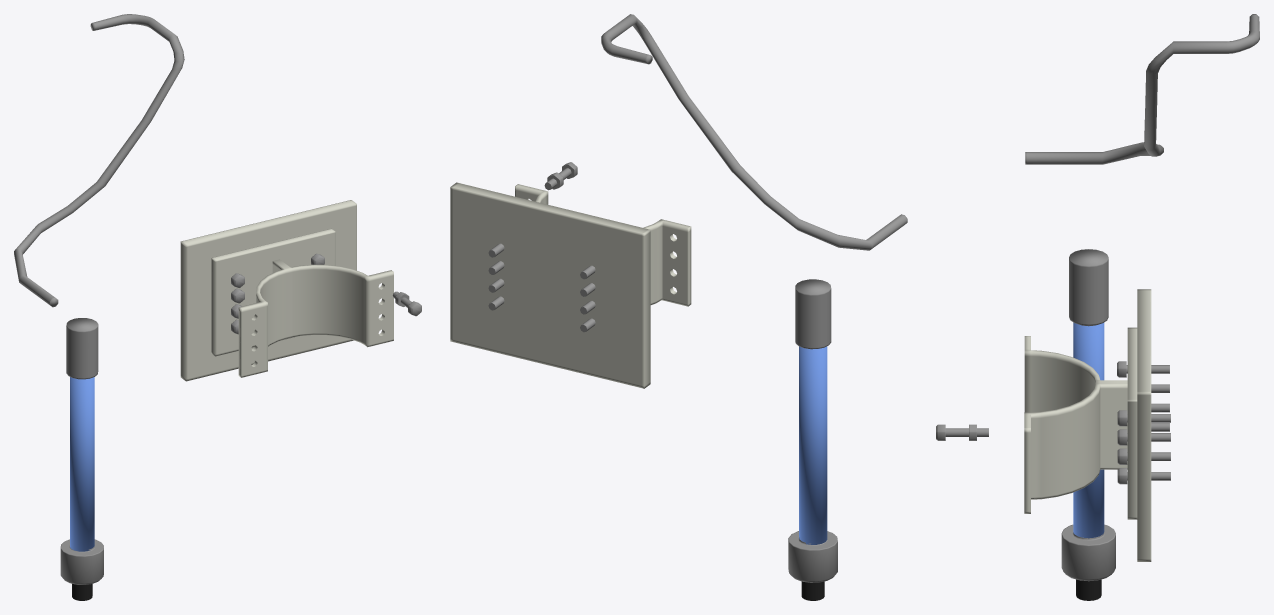
Rendered from newAssets.fbx.
3 views of the same model, side by side, from view 1: azimuth 30°, elevation 25°; view 2: azimuth 150°, elevation 25°; view 3: azimuth 270°, elevation 25° (orthographic). The views are drawn at different scales.
Visible parts, largest first — view 1: plunger.008, Cube.159, Cube.160, Circle.092, vale_base.003, Circle.182, Circle.181; view 2: Cube.159, Circle.092, vale_base.003, plunger.008, Circle.182, Circle.181; view 3: plunger.008, vale_base.003, Cube.159, Circle.092, Circle.182, Circle.181, Cube.160, bolt_s.024.
Boxes of the visible parts, x1=… form: plunger.008: x1=238, y1=259, x2=393, y2=377; Cube.159: x1=180, y1=200, x2=356, y2=381; Cube.160: x1=211, y1=228, x2=335, y2=356; Circle.092: x1=70, y1=377, x2=94, y2=551; vale_base.003: x1=14, y1=14, x2=184, y2=307; Circle.182: x1=60, y1=539, x2=103, y2=600; Circle.181: x1=66, y1=318, x2=98, y2=379; Cube.159: x1=450, y1=182, x2=650, y2=388; Circle.092: x1=799, y1=346, x2=827, y2=544; vale_base.003: x1=601, y1=14, x2=907, y2=250; plunger.008: x1=515, y1=184, x2=691, y2=306; Circle.182: x1=788, y1=531, x2=837, y2=600; Circle.181: x1=795, y1=279, x2=831, y2=349; plunger.008: x1=1024, y1=336, x2=1127, y2=513; vale_base.003: x1=1025, y1=14, x2=1259, y2=164; Cube.159: x1=1137, y1=289, x2=1151, y2=561; Circle.092: x1=1073, y1=322, x2=1104, y2=538; Circle.182: x1=1061, y1=524, x2=1115, y2=600; Circle.181: x1=1069, y1=249, x2=1108, y2=326; Cube.160: x1=1127, y1=327, x2=1137, y2=519; bolt_s.024: x1=936, y1=424, x2=988, y2=440.
Size of the model in its own units: 791 by 1088 by 508.
